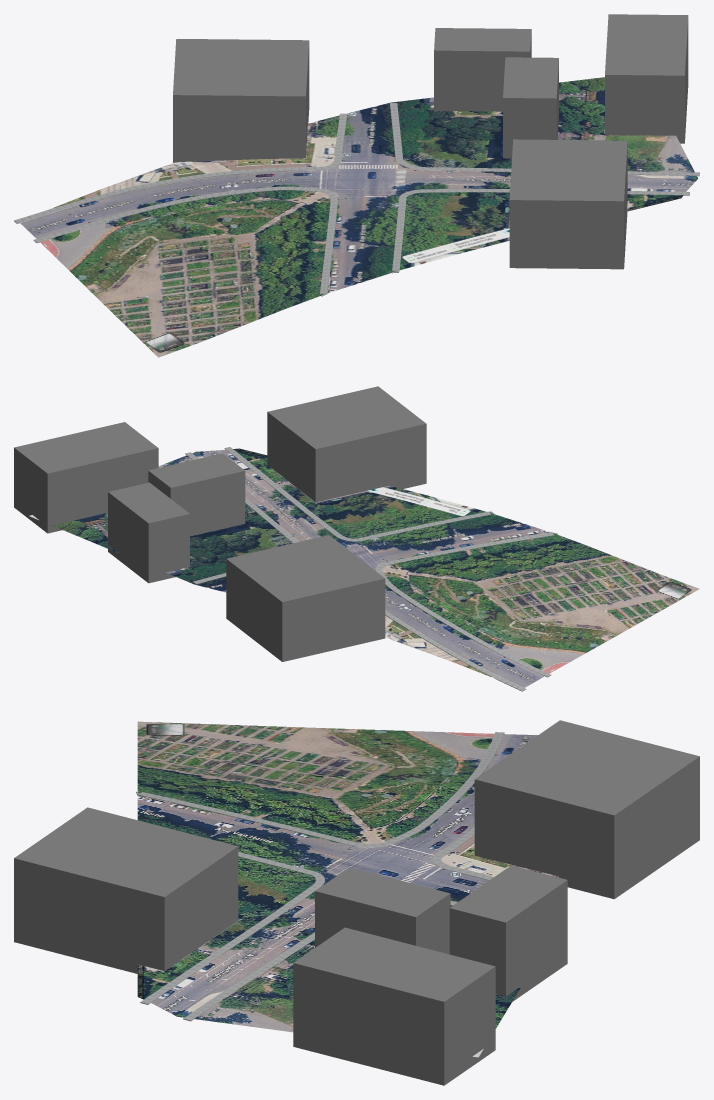
Rendered from street_corner_terrain.fbx.
The picture shows the model from 3 angles, top to bottom: view 1: azimuth 30°, elevation 25°; view 2: azimuth 150°, elevation 25°; view 3: azimuth 270°, elevation 25°; orthographic projection. The views are drawn at different scales.
Visible parts, largest first — view 1: street_corner_satellite, Building.001, Building.005, Building.004, Building.003, Building.002, sidewalk_SW, sidewalk_NW, sidewalk_SE, sidewalk_NE; view 2: street_corner_satellite, Building.001, Building.005, Building.004, Building.003, Building.002, sidewalk_SW, sidewalk_SE, sidewalk_NW, sidewalk_NE; view 3: street_corner_satellite, Building.001, Building.005, Building.004, Building.003, Building.002, sidewalk_SW, sidewalk_SE, sidewalk_NE, sidewalk_NW.
Part boxes in pixels (x1=…): street_corner_satellite: x1=20, y1=77, x2=697, y2=357; Building.001: x1=173, y1=39, x2=309, y2=162; Building.005: x1=509, y1=139, x2=627, y2=269; Building.004: x1=605, y1=14, x2=688, y2=143; Building.003: x1=434, y1=28, x2=531, y2=111; Building.002: x1=503, y1=57, x2=558, y2=158; sidewalk_SW: x1=33, y1=186, x2=337, y2=296; sidewalk_NW: x1=14, y1=113, x2=347, y2=223; sidewalk_SE: x1=391, y1=189, x2=689, y2=273; sidewalk_NE: x1=390, y1=103, x2=699, y2=176; street_corner_satellite: x1=29, y1=448, x2=699, y2=687; Building.001: x1=226, y1=535, x2=385, y2=661; Building.005: x1=267, y1=386, x2=426, y2=502; Building.004: x1=14, y1=422, x2=158, y2=533; Building.003: x1=108, y1=482, x2=189, y2=583; Building.002: x1=148, y1=453, x2=245, y2=536; sidewalk_SW: x1=375, y1=532, x2=557, y2=677; sidewalk_SE: x1=224, y1=447, x2=494, y2=541; sidewalk_NW: x1=385, y1=610, x2=526, y2=691; sidewalk_NE: x1=185, y1=452, x2=298, y2=584; street_corner_satellite: x1=137, y1=721, x2=558, y2=1057; Building.001: x1=474, y1=720, x2=699, y2=899; Building.005: x1=14, y1=807, x2=238, y2=973; Building.004: x1=293, y1=927, x2=495, y2=1085; Building.003: x1=449, y1=865, x2=567, y2=1001; Building.002: x1=315, y1=867, x2=450, y2=954; sidewalk_SW: x1=136, y1=732, x2=504, y2=847; sidewalk_SE: x1=140, y1=852, x2=324, y2=1004; sidewalk_NE: x1=183, y1=900, x2=457, y2=1021; sidewalk_NW: x1=432, y1=827, x2=493, y2=880.
Size of the model in its own units: 20123 by 2699 by 14827.
